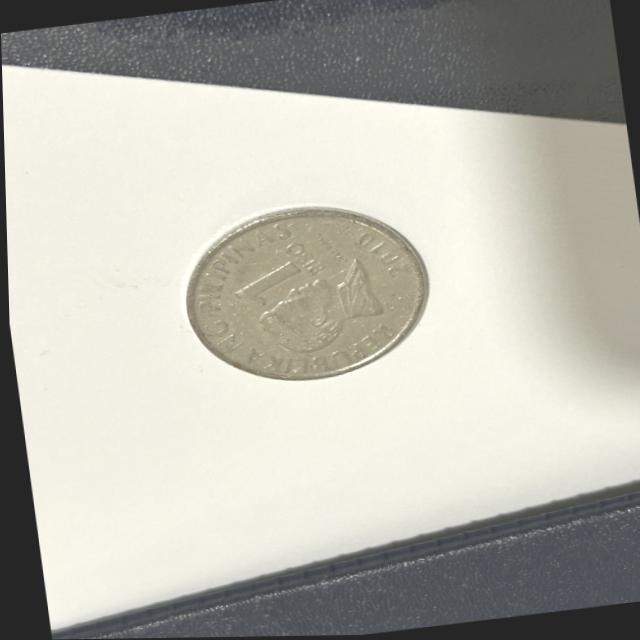1_Old_Front: (225, 237, 327, 310)
